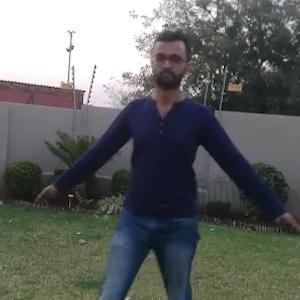land: (71, 64, 281, 298)
